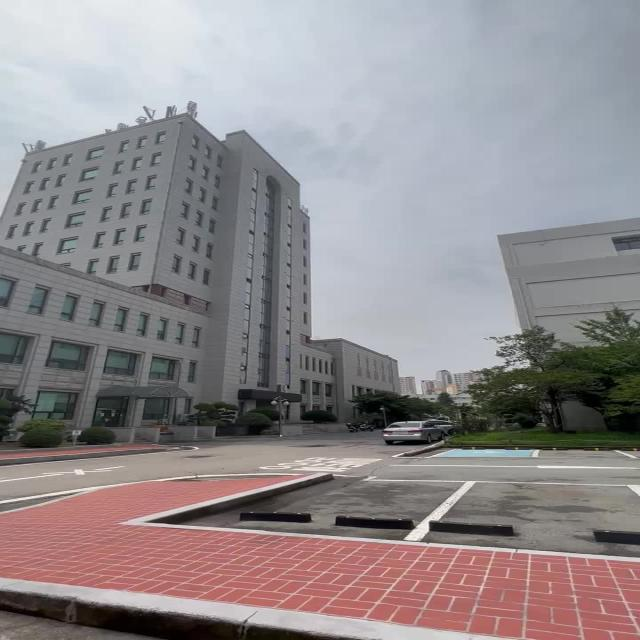building: (7, 117, 336, 382)
